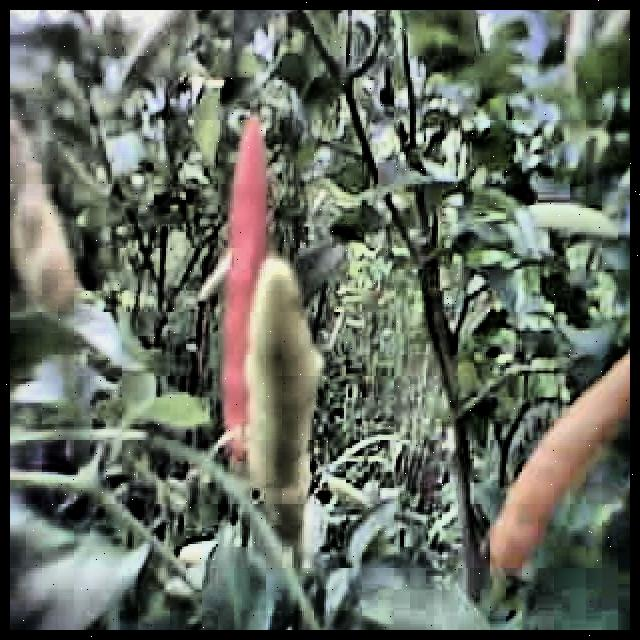Cabai: (493, 327, 630, 576), (221, 117, 260, 395)
